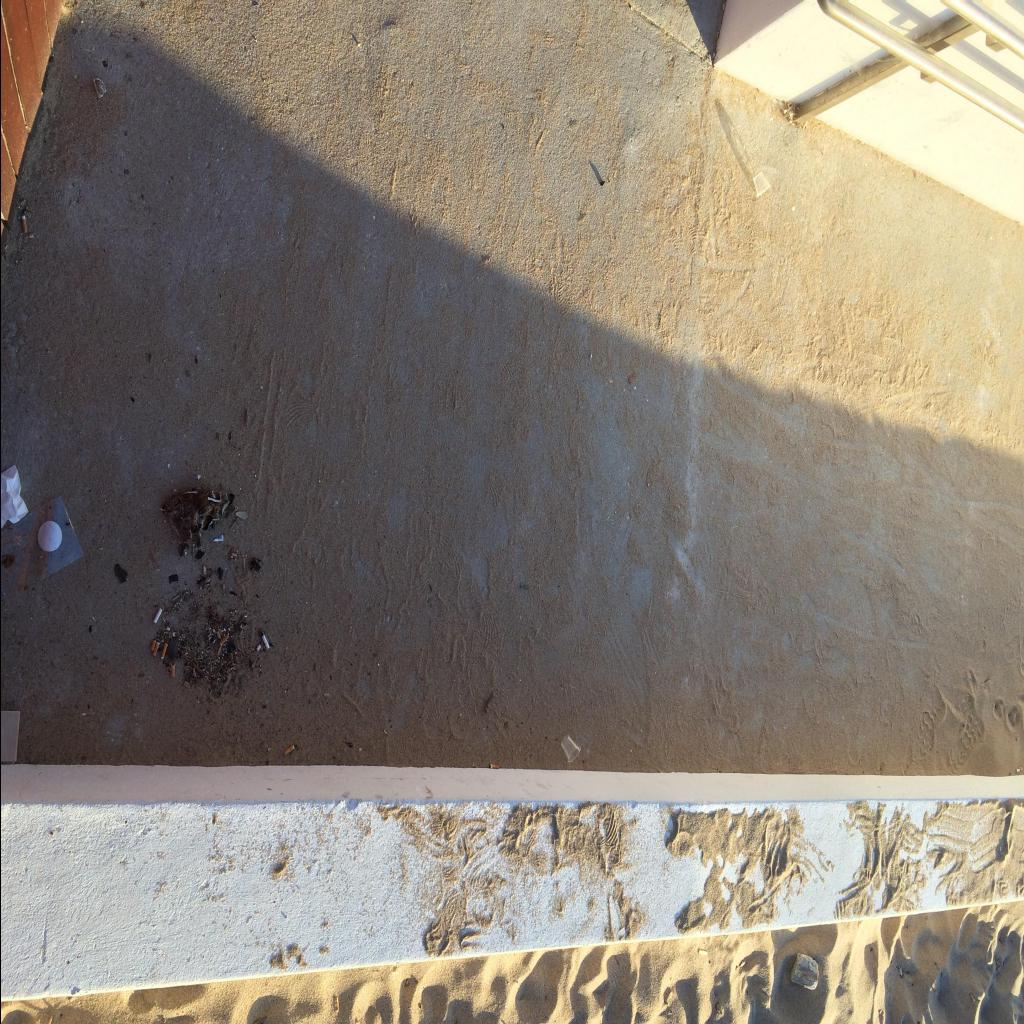Cigarette: (260, 630, 268, 648), (152, 608, 162, 622), (151, 641, 159, 656), (218, 633, 228, 645), (282, 744, 294, 754), (20, 215, 26, 233), (160, 644, 166, 658), (170, 663, 174, 677), (254, 644, 260, 652), (150, 639, 154, 650), (488, 764, 498, 768)
Disposable plastic cup: (560, 734, 580, 762), (752, 172, 770, 198)
Normal paper: (0, 464, 28, 528)
Plastic film: (0, 496, 82, 601)
